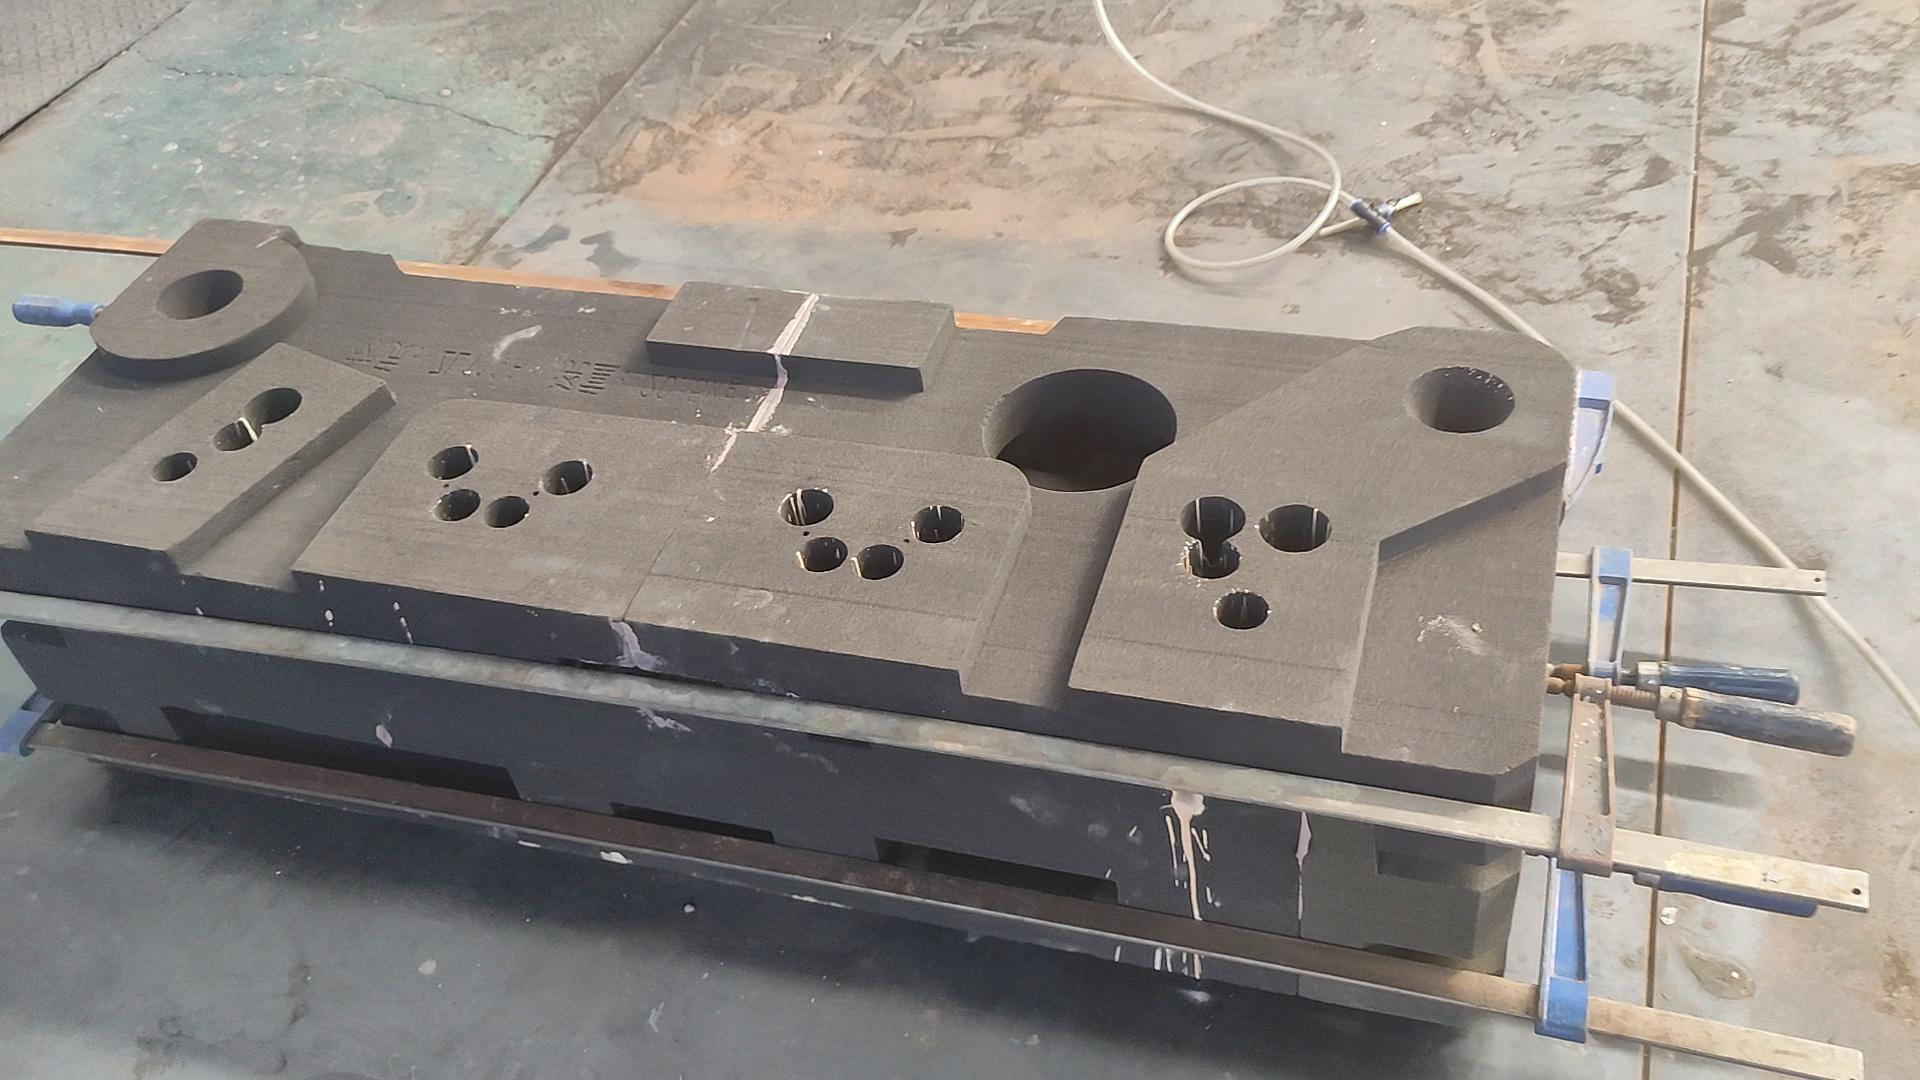pouring hole: (1403, 364, 1515, 434), (154, 268, 244, 320)
